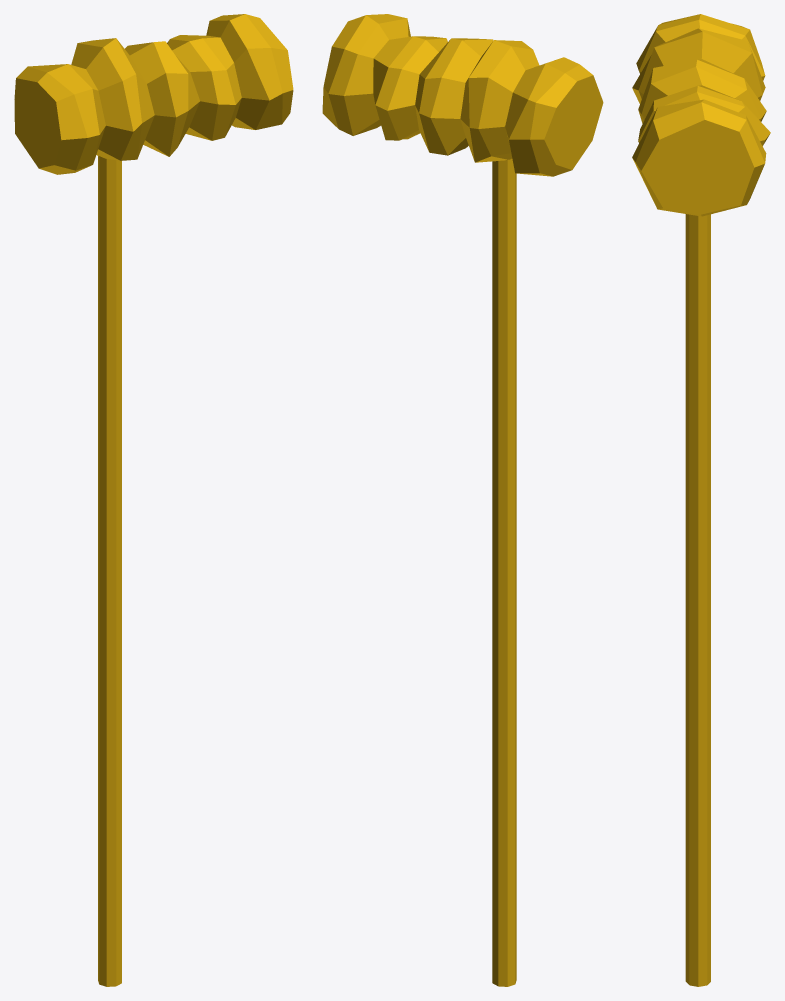
File: rope.fbx
The picture shows the model from 3 angles, left to right: view 1: azimuth 30°, elevation 25°; view 2: azimuth 150°, elevation 25°; view 3: azimuth 270°, elevation 25°; orthographic projection.
Visible parts, largest first — view 1: Cylinder.002, Cylinder.003; view 2: Cylinder.002, Cylinder.003; view 3: Cylinder.002, Cylinder.003.
Boxes of the visible parts, bbox=[...] form: Cylinder.002: bbox=[14, 14, 293, 174]; Cylinder.003: bbox=[98, 156, 121, 986]; Cylinder.002: bbox=[322, 14, 603, 176]; Cylinder.003: bbox=[492, 158, 516, 986]; Cylinder.002: bbox=[632, 14, 770, 216]; Cylinder.003: bbox=[685, 214, 710, 986].
Bounding box in the file's own units: 42.85 × 163 × 21.45.
